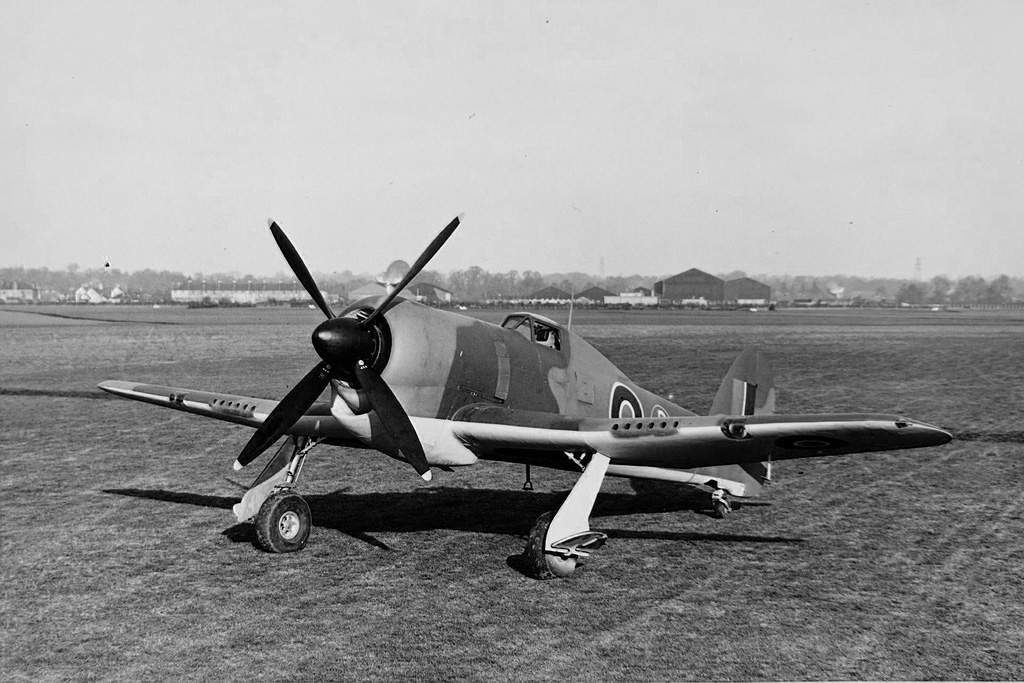Aeronef_militaire: (79, 203, 967, 599)
